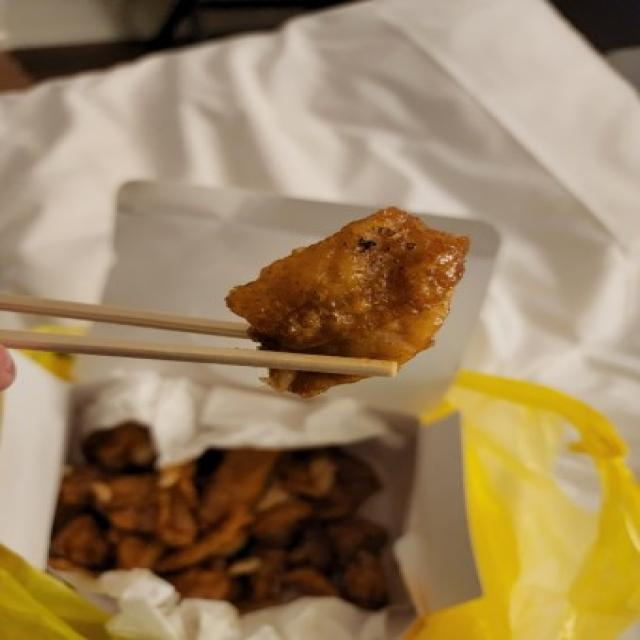Frango: (212, 218, 508, 391)
